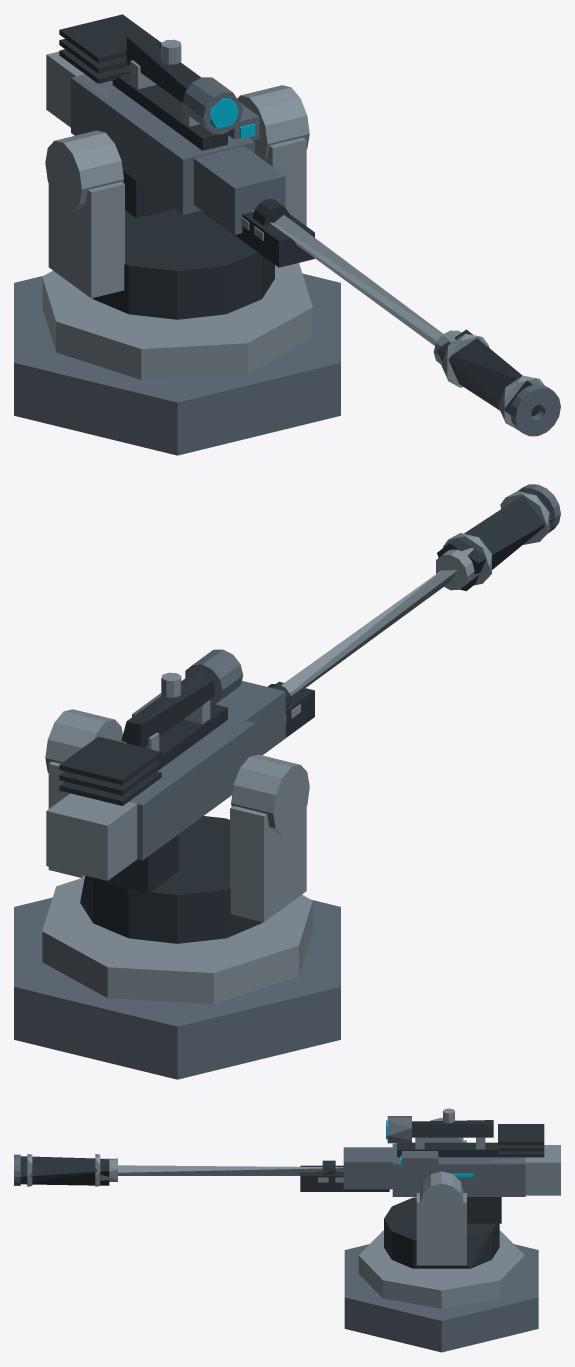
The model's file is needle_t1_d0.glb.
3 views of the same model, one above another, from view 1: azimuth 30°, elevation 25°; view 2: azimuth 150°, elevation 25°; view 3: azimuth 270°, elevation 25° (orthographic). The views are drawn at different scales.
Visible parts, largest first — view 1: ROOT_ARMOR_GEOMETRY; view 2: ROOT_ARMOR_GEOMETRY; view 3: ROOT_ARMOR_GEOMETRY.
Part boxes in pixels (left/top/right/bottom): ROOT_ARMOR_GEOMETRY: left=14, top=14, right=560, bottom=455; ROOT_ARMOR_GEOMETRY: left=14, top=484, right=560, bottom=1079; ROOT_ARMOR_GEOMETRY: left=14, top=1108, right=560, bottom=1352.
Size of the model in its own units: 1.55 by 1.48 by 3.79.
